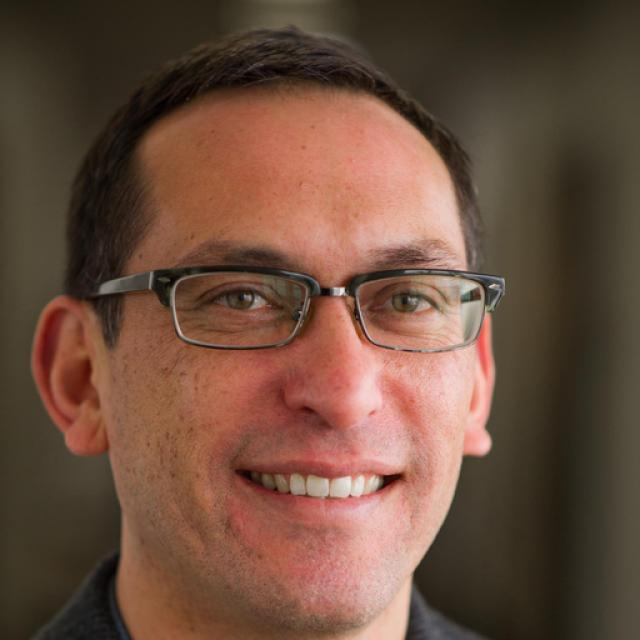Pigmentation: (143, 360, 240, 486)
